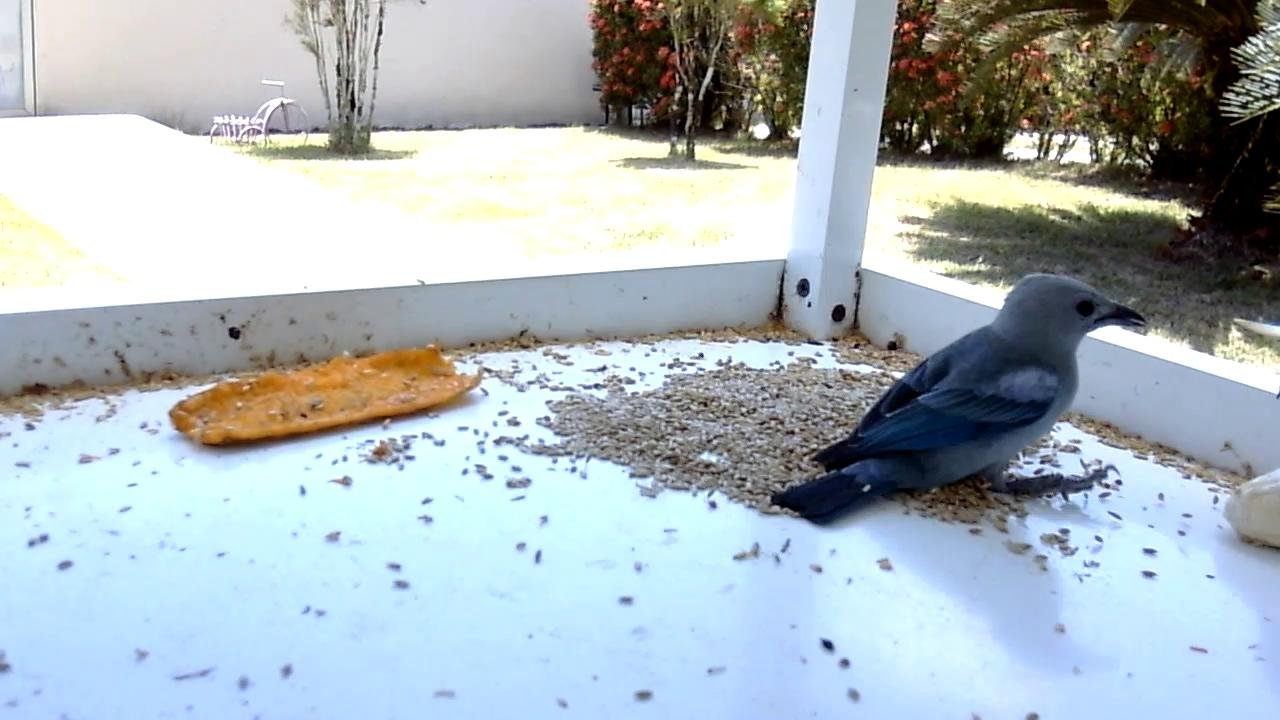sanhaco_da_amazonia: (768, 273, 1145, 529)
